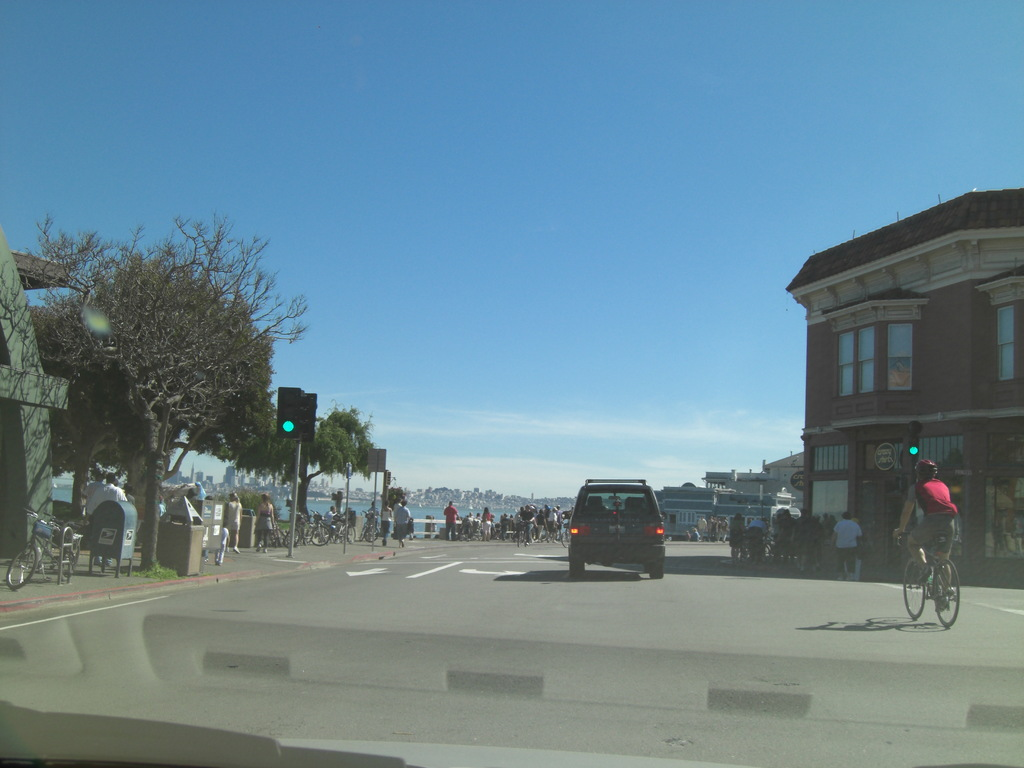Tree: (40, 206, 284, 575)
